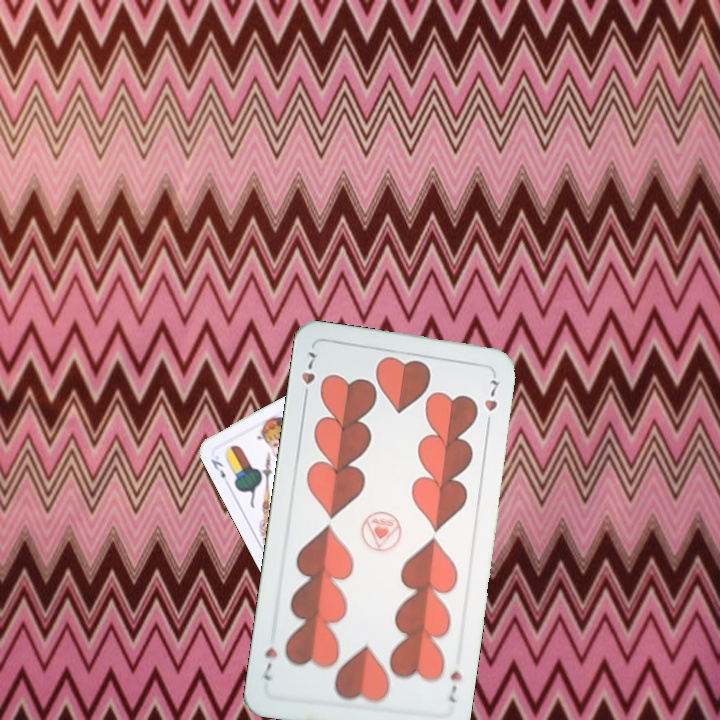EK: (207, 455, 228, 481)
H7: (297, 347, 321, 404), (444, 666, 464, 705)
